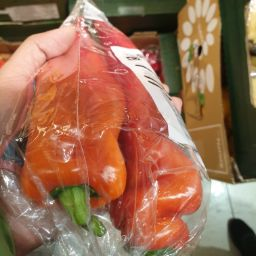Jalapeno pepper: (33, 39, 129, 236), (108, 66, 201, 256)
